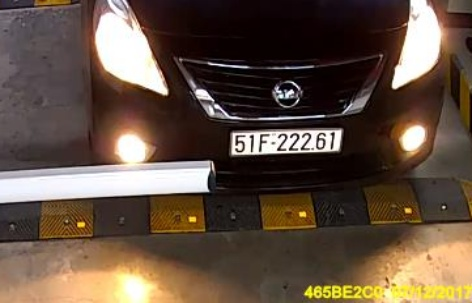plate: (230, 119, 340, 160)
